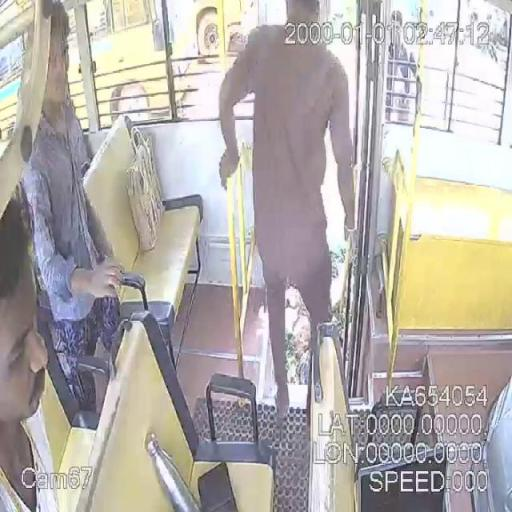persona: (216, 1, 358, 423), (20, 1, 125, 414), (0, 178, 60, 512)
